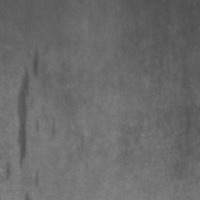inclusion: (11, 45, 50, 174)
